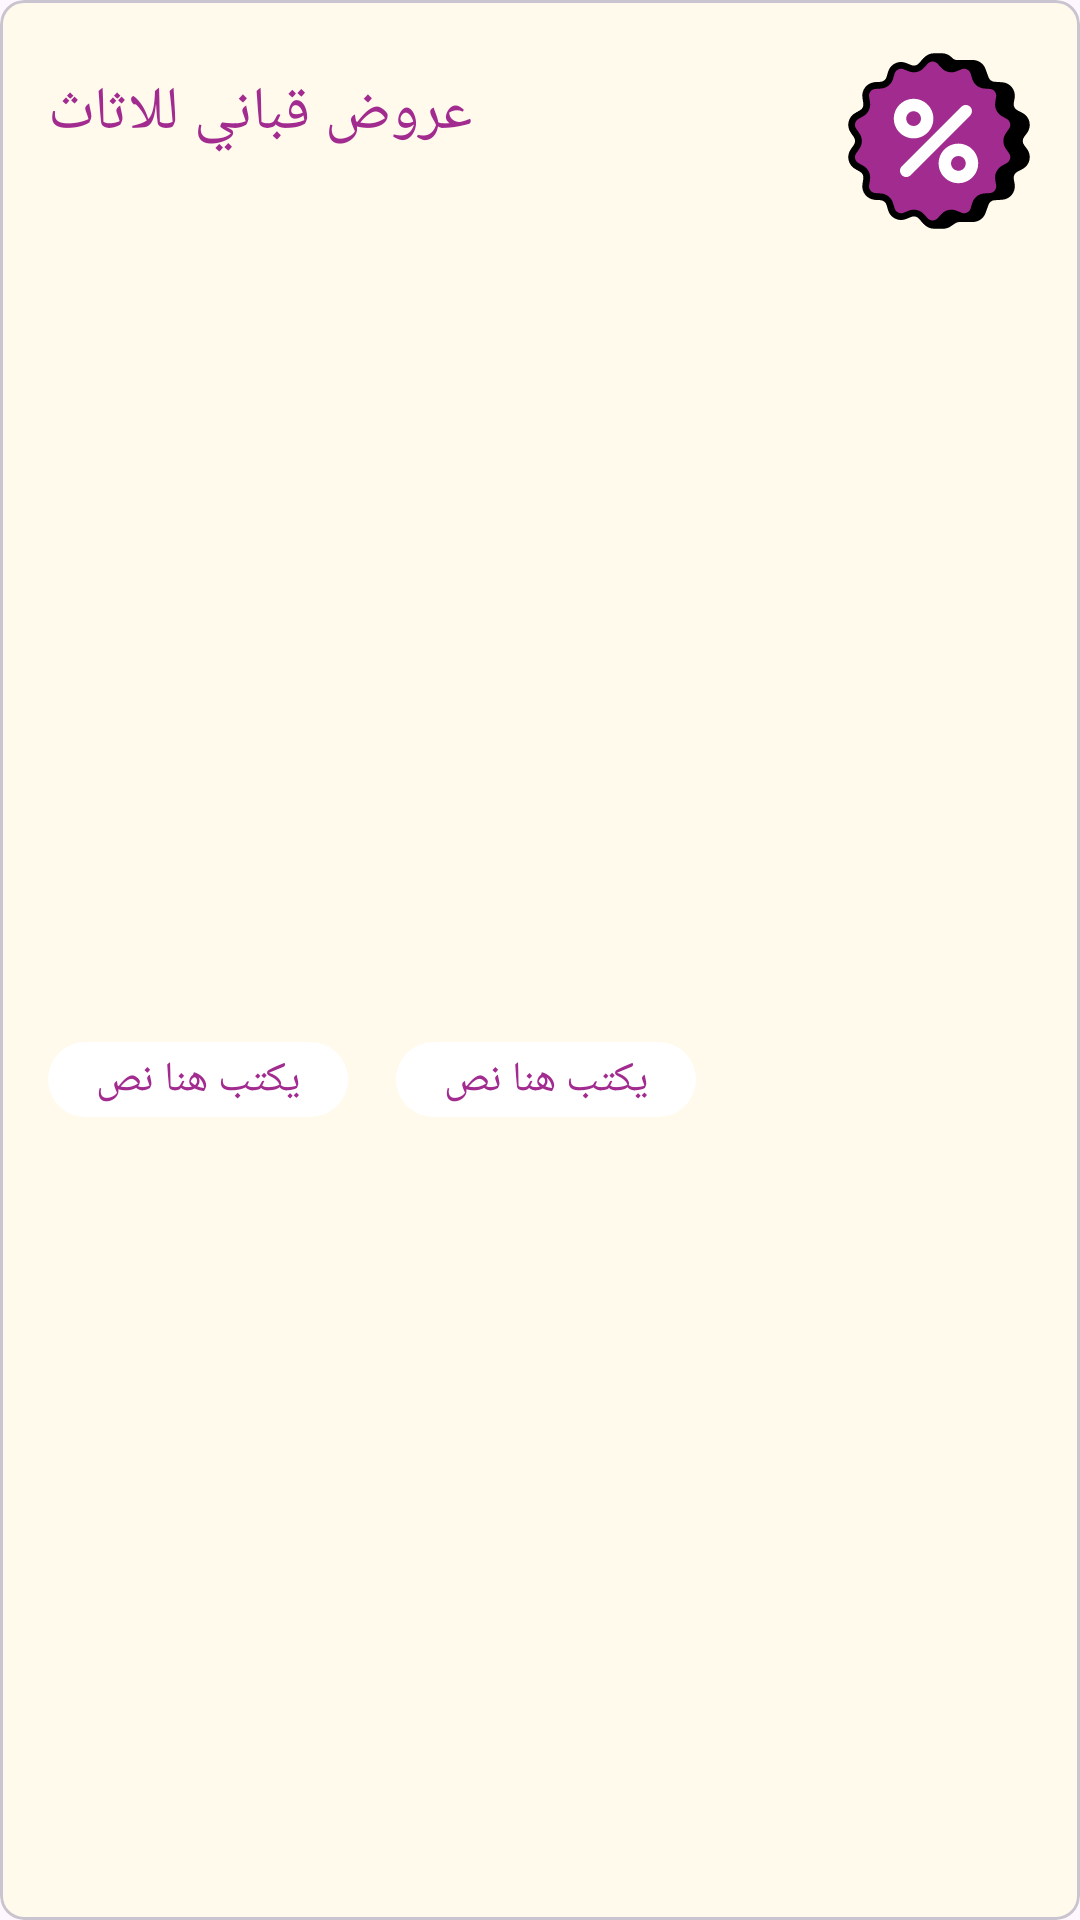

Icon click points for this 1080px x 1920px phone screenshot, format (x,y):
ill spot commerce percentage: (939,141)
